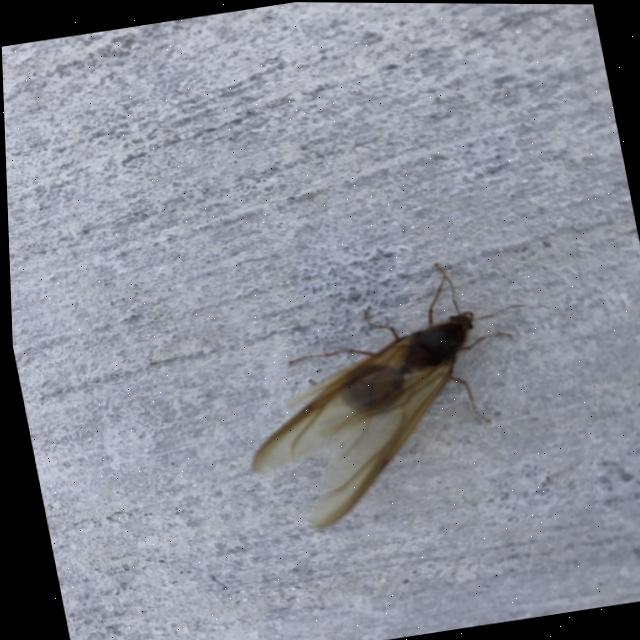Alive-Male-Alate: (213, 248, 561, 540)
